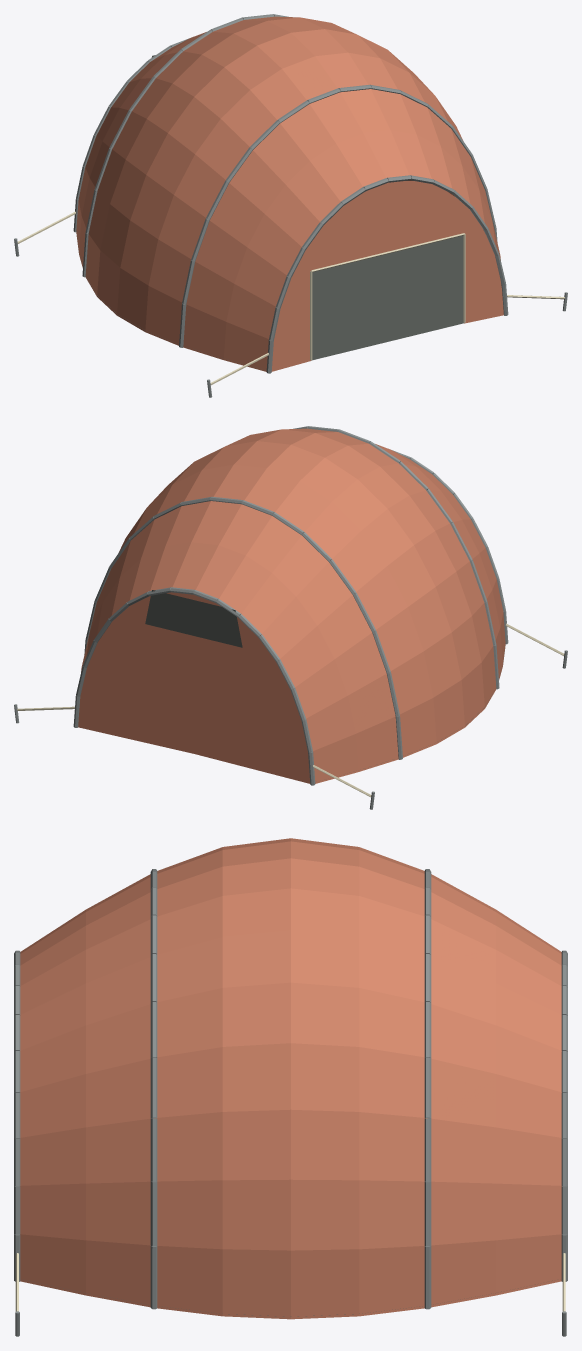
Rendered from Tent_Dome_Small.fbx.
3 renders of one model, top to bottom at view 1: azimuth 30°, elevation 25°; view 2: azimuth 150°, elevation 25°; view 3: azimuth 270°, elevation 25°, orthographic. The views are drawn at different scales.
Visible parts, largest first — view 1: Tent_Dome_Small_Geometry; view 2: Tent_Dome_Small_Geometry; view 3: Tent_Dome_Small_Geometry.
Part boxes in pixels (bbox=[...]): Tent_Dome_Small_Geometry: bbox=[14, 14, 567, 397]; Tent_Dome_Small_Geometry: bbox=[14, 426, 567, 809]; Tent_Dome_Small_Geometry: bbox=[14, 838, 567, 1336].
Bounding box in the file's own units: 259 × 172 × 243.
